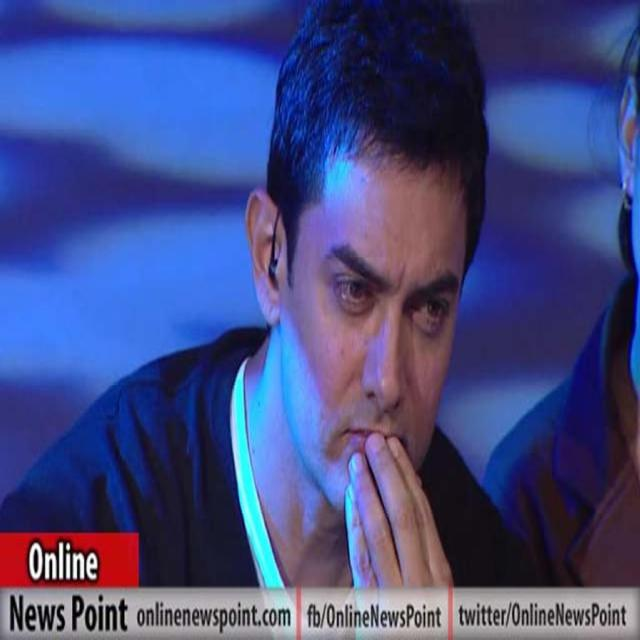Face: (303, 135, 463, 498)
